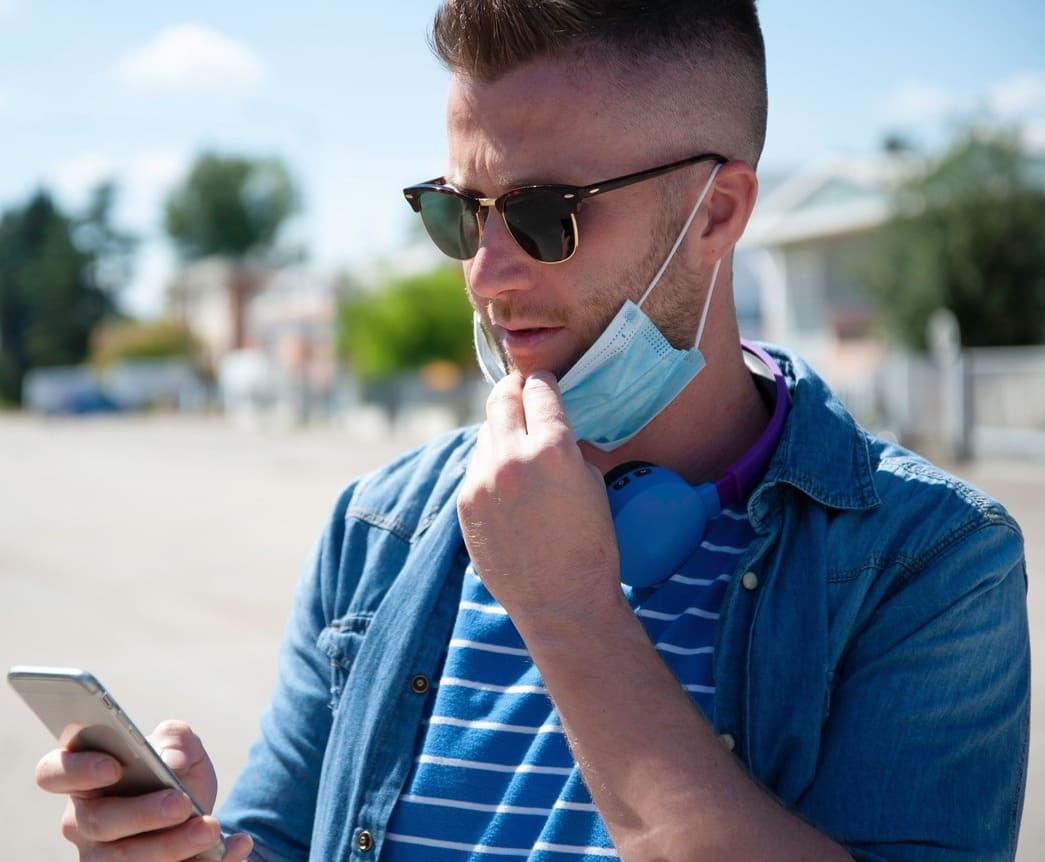with_incorrect_mask: (449, 72, 710, 452)
